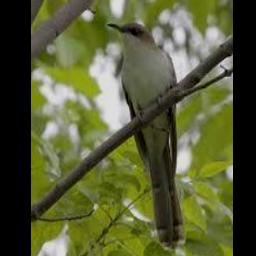Cuckoo: (107, 22, 186, 248)
